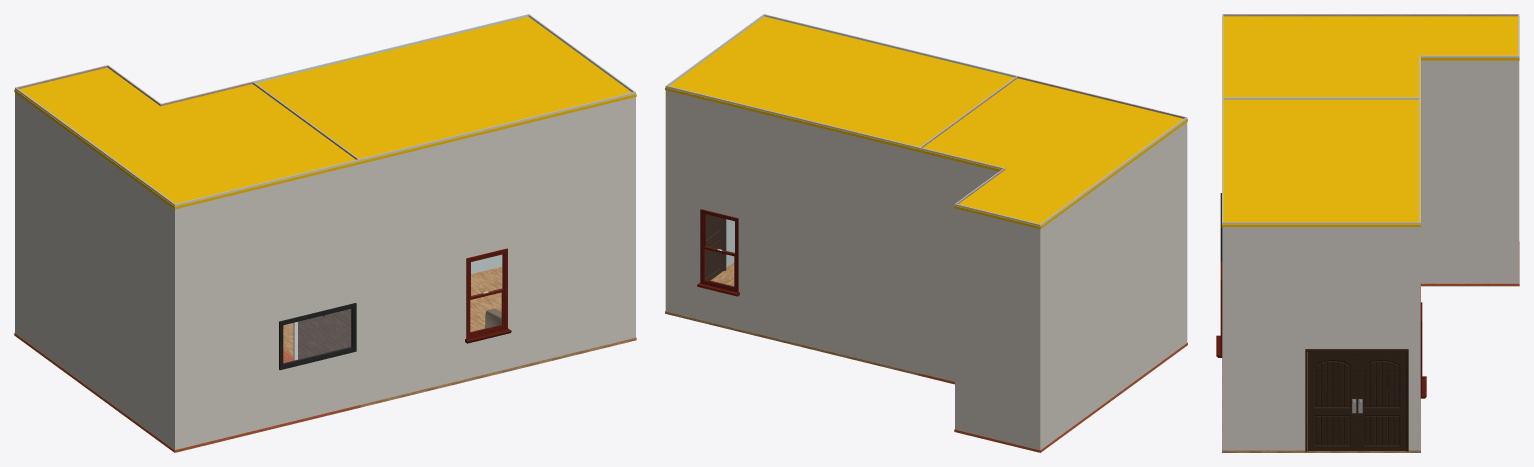
Rendered from ProcTHOR-Train-110.glb.
3 renders of one model, left to right at view 1: azimuth 30°, elevation 25°; view 2: azimuth 150°, elevation 25°; view 3: azimuth 270°, elevation 25°, orthographic. The views are drawn at different scales.
Parts seen in each view (by area): view 1: WallInside#wall|exterior|0.00|5.48|5.48|5.48, WallInside#wall|exterior|5.48|5.48|9.13|5.48, WallInside#wall|exterior|9.13|0.00|9.13|5.48, Ceiling#room|3|c, Ceiling#room|2|c, Floor#room|3|f, WallInside#wall|2|5.48|1.83|5.48|5.48, Window_Hung_32x60, Window_Fixed_60x36, Floor#room|2|f, WallInside#wall|3|0.00|1.83|5.48|1.83; view 2: WallInside#wall|exterior|0.00|1.83|5.48|1.83, WallInside#wall|exterior|9.13|0.00|9.13|5.48, Ceiling#room|3|c, Ceiling#room|2|c, WallInside#wall|exterior|7.30|0.00|9.13|0.00, WallInside#wall|exterior|5.48|1.83|7.30|1.83, Window_Hung_32x60, Floor#room|3|f, Doorway_Door_9b, Floor#room|2|f, WallInside#wall|3|0.00|5.48|5.48|5.48, WallInside#wall|3|0.00|1.83|0.00|5.48; view 3: WallInside#wall|exterior|0.00|1.83|0.00|5.48, Ceiling#room|3|c, WallInside#wall|exterior|7.30|0.00|7.30|1.83, Ceiling#room|2|c, Doorway_Door_9b, Doorway_Door_9a, Doorway_Double_9, WallInside#wall|2|9.13|0.00|9.13|5.48, Window_Hung_32x60 (×2), Floor#room|3|f, WallInside#wall|3|5.48|1.83|5.48|5.48, Floor#room|2|f.
Boxes of the visible parts, box(x1,y1,x2,y2) form: WallInside#wall|exterior|0.00|5.48|5.48|5.48: box(359, 92, 635, 404); WallInside#wall|exterior|5.48|5.48|9.13|5.48: box(175, 159, 359, 449); WallInside#wall|exterior|9.13|0.00|9.13|5.48: box(15, 87, 174, 449); Ceiling#room|3|c: box(252, 16, 636, 163); Ceiling#room|2|c: box(14, 67, 360, 209); Floor#room|3|f: box(283, 266, 636, 407); WallInside#wall|2|5.48|1.83|5.48|5.48: box(252, 82, 358, 359); Window_Hung_32x60: box(465, 248, 511, 343); Window_Fixed_60x36: box(279, 303, 356, 370); Floor#room|2|f: box(14, 333, 360, 452); WallInside#wall|3|0.00|1.83|5.48|1.83: box(253, 14, 529, 273); WallInside#wall|exterior|0.00|1.83|5.48|1.83: box(665, 86, 919, 372); WallInside#wall|exterior|9.13|0.00|9.13|5.48: box(1040, 117, 1187, 449); Ceiling#room|3|c: box(665, 16, 1014, 151); Ceiling#room|2|c: box(918, 78, 1187, 229); WallInside#wall|exterior|7.30|0.00|9.13|0.00: box(955, 204, 1040, 449); WallInside#wall|exterior|5.48|1.83|7.30|1.83: box(919, 148, 1003, 381); Window_Hung_32x60: box(697, 209, 739, 296); Floor#room|3|f: box(665, 262, 920, 375); Doorway_Door_9b: box(705, 214, 723, 280); Floor#room|2|f: box(918, 342, 1187, 452); WallInside#wall|3|0.00|5.48|5.48|5.48: box(764, 14, 1016, 77); WallInside#wall|3|0.00|1.83|0.00|5.48: box(667, 14, 764, 267); WallInside#wall|exterior|0.00|1.83|0.00|5.48: box(1222, 222, 1420, 450); Ceiling#room|3|c: box(1222, 99, 1420, 226); WallInside#wall|exterior|7.30|0.00|7.30|1.83: box(1419, 56, 1518, 283); Ceiling#room|2|c: box(1222, 16, 1519, 99); Doorway_Door_9b: box(1308, 351, 1357, 450); Doorway_Door_9a: box(1357, 351, 1406, 450); Doorway_Double_9: box(1305, 349, 1408, 451); WallInside#wall|2|9.13|0.00|9.13|5.48: box(1223, 14, 1518, 16); Window_Hung_32x60 (×2): box(1216, 261, 1426, 398); Floor#room|3|f: box(1222, 352, 1420, 452); WallInside#wall|3|5.48|1.83|5.48|5.48: box(1223, 97, 1419, 99); Floor#room|2|f: box(1420, 241, 1519, 301).
Size of what is drawn, in the model's own units: 9.27 by 4.71 by 5.62.
Materials: 143 (54 with a texture image).
